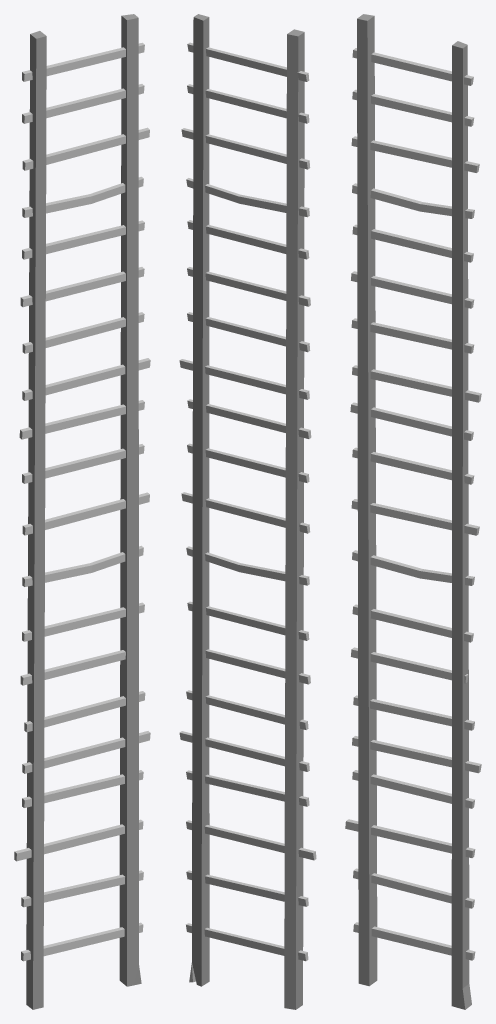
The model's file is PT_Ladder_03.fbx.
3 views of the same model, side by side, from view 1: azimuth 30°, elevation 25°; view 2: azimuth 150°, elevation 25°; view 3: azimuth 330°, elevation 25° (orthographic).
Visible parts, largest first — view 1: PT_Ladder_03; view 2: PT_Ladder_03; view 3: PT_Ladder_03.
Boxes of the visible parts, box(x1,y1,x2,y2) form: PT_Ladder_03: box(14, 14, 150, 1009); PT_Ladder_03: box(179, 14, 316, 1009); PT_Ladder_03: box(345, 14, 481, 1009).
Bounding box in the file's own units: 60.96 × 421 × 8.14.
Materials: 1 (1 with a texture image).
